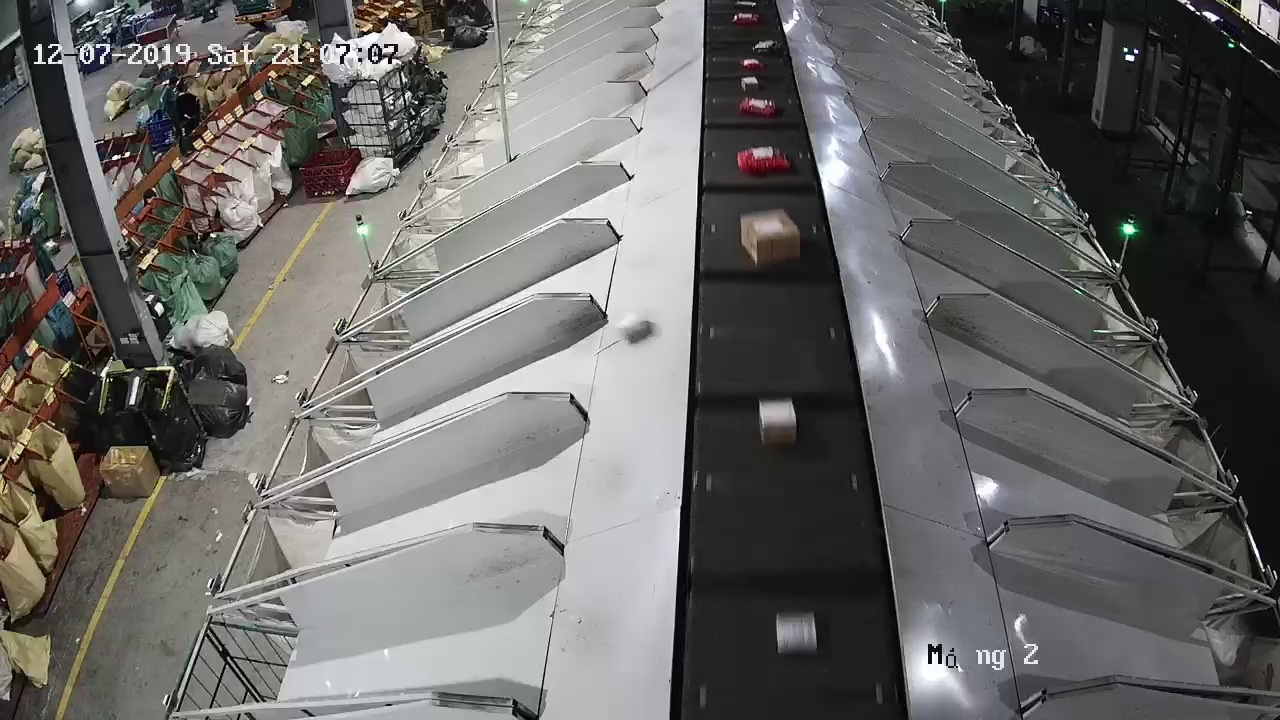parcel: (611, 312, 652, 344)
